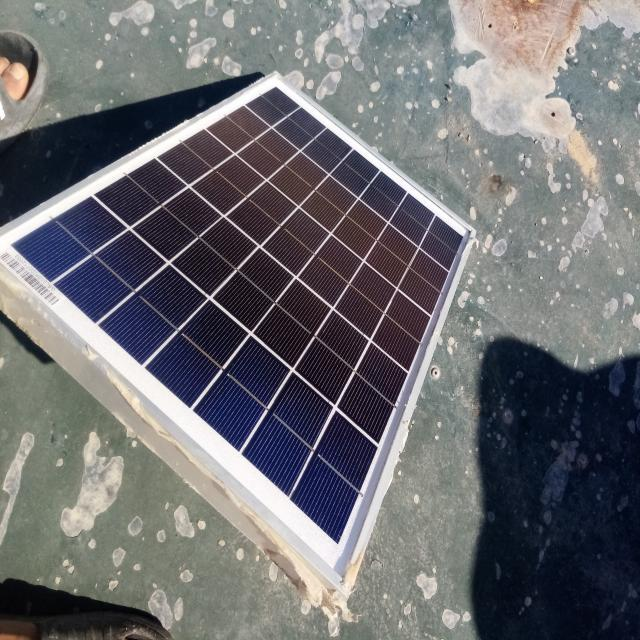no faulty: (0, 72, 475, 593)
